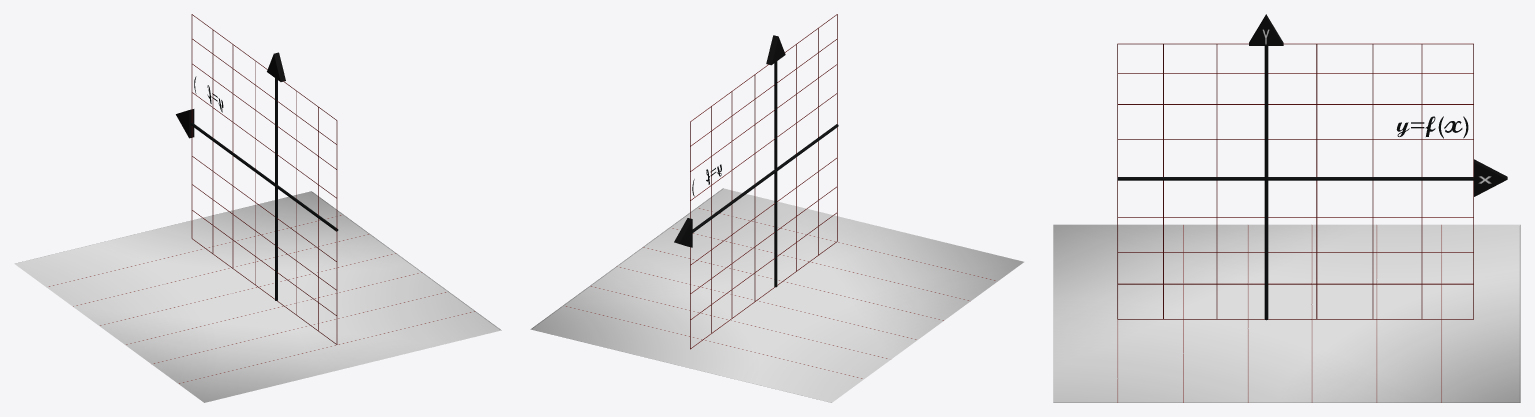
3 renders of one model, left to right at view 1: azimuth 30°, elevation 25°; view 2: azimuth 150°, elevation 25°; view 3: azimuth 270°, elevation 25°, orthographic. The views are drawn at different scales.
Visible parts, largest first — view 1: Y__X_B_²:parabola:plane:pPlane1, Y__X_B_²:parabola:pCylinder37, Y__X_B_²:parabola:pCylinder36, Y__X_B_²:parabola:pCylinder18, Y__X_B_²:parabola:pCylinder35, pCylinder35, Y__X_B_²:parabola:pCylinder33; view 2: Y__X_B_²:parabola:plane:pPlane1, Y__X_B_²:parabola:pCylinder37, Y__X_B_²:parabola:pCylinder36, Y__X_B_²:parabola:pCylinder33, Y__X_B_²:parabola:pCylinder29; view 3: Y__X_B_²:parabola:plane:pPlane1, Y__X_B_²:parabola:pCylinder36, Y__X_B_²:parabola:pCylinder37, Y__X_B_²:parabola:nueva_flecha_x:polySurface1, Y__X_B_²:parabola:pCylinder15, Y__X_B_²:parabola:pCylinder1, Y__X_B_²:parabola:Nueva_flecha_y:polySurface1, Y__X_B_²:parabola:pCylinder24, Y__X_B_²:parabola:pCylinder33, Y__X_B_²:parabola:pCylinder35, Y__X_B_²:parabola:pCylinder29, polySurface19.
Part boxes in pixels (<box>): Y__X_B_²:parabola:plane:pPlane1: <box>14,191,501,402</box>; Y__X_B_²:parabola:pCylinder37: <box>275,78,277,300</box>; Y__X_B_²:parabola:pCylinder36: <box>190,122,338,231</box>; Y__X_B_²:parabola:pCylinder18: <box>336,121,337,344</box>; Y__X_B_²:parabola:pCylinder35: <box>212,30,213,253</box>; pCylinder35: <box>191,15,192,238</box>; Y__X_B_²:parabola:pCylinder33: <box>232,45,233,267</box>; Y__X_B_²:parabola:plane:pPlane1: <box>530,188,1023,402</box>; Y__X_B_²:parabola:pCylinder37: <box>774,61,777,287</box>; Y__X_B_²:parabola:pCylinder36: <box>692,124,838,232</box>; Y__X_B_²:parabola:pCylinder33: <box>731,92,732,318</box>; Y__X_B_²:parabola:pCylinder29: <box>754,75,755,301</box>; Y__X_B_²:parabola:plane:pPlane1: <box>1053,224,1520,402</box>; Y__X_B_²:parabola:pCylinder36: <box>1117,177,1473,180</box>; Y__X_B_²:parabola:pCylinder37: <box>1264,46,1268,320</box>; Y__X_B_²:parabola:nueva_flecha_x:polySurface1: <box>1474,159,1507,196</box>; Y__X_B_²:parabola:pCylinder15: <box>1117,283,1473,284</box>; Y__X_B_²:parabola:pCylinder1: <box>1117,43,1473,44</box>; Y__X_B_²:parabola:Nueva_flecha_y:polySurface1: <box>1249,14,1283,45</box>; Y__X_B_²:parabola:pCylinder24: <box>1216,44,1217,318</box>; Y__X_B_²:parabola:pCylinder33: <box>1372,44,1373,318</box>; Y__X_B_²:parabola:pCylinder35: <box>1421,44,1422,318</box>; Y__X_B_²:parabola:pCylinder29: <box>1316,44,1317,318</box>; polySurface19: <box>1396,116,1468,138</box>.
Bounding box in the file's own units: 56.75 × 45.17 × 62.85.
